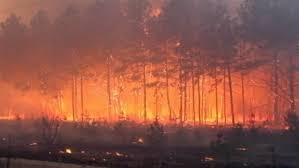fire: (65, 96, 262, 121), (123, 100, 146, 118), (91, 100, 109, 121), (208, 98, 219, 124)
smoke: (4, 2, 34, 13)
